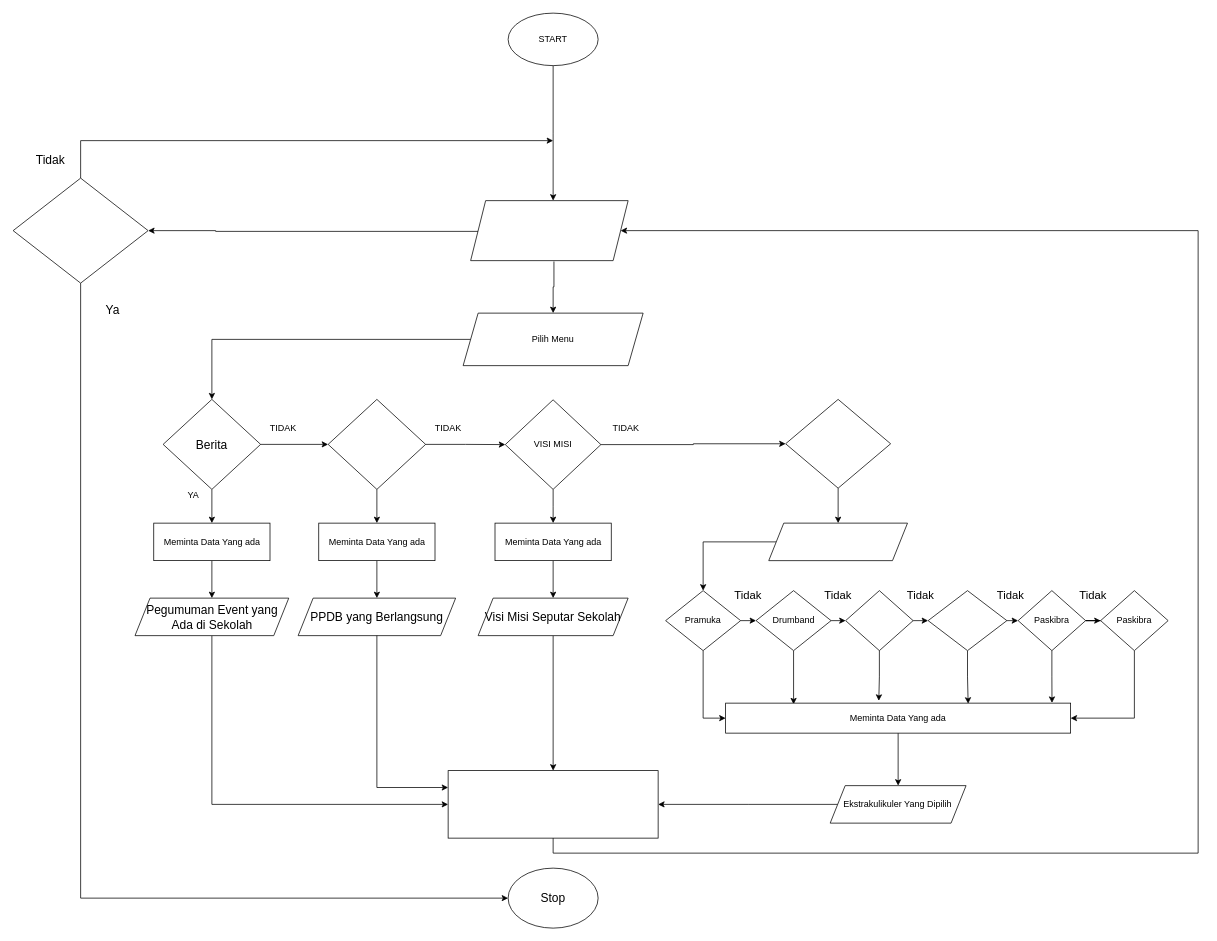
Some shapes in this 1217 by 941 pixel diagram are drawn without their labels. Here are the shapes that lost their labels. From the top down, the centre of each, then its label:
point (80, 230): Tutup halaman ini?
point (549, 230): HALAMAN UTAMA
point (376, 444): PPDB
point (838, 443): EKSTRAKULIKULER
point (838, 541): Pilih Ekstrakulikuler
point (879, 620): Banjari
point (967, 620): Tari
point (552, 804): Pencarian Telah Selesai
